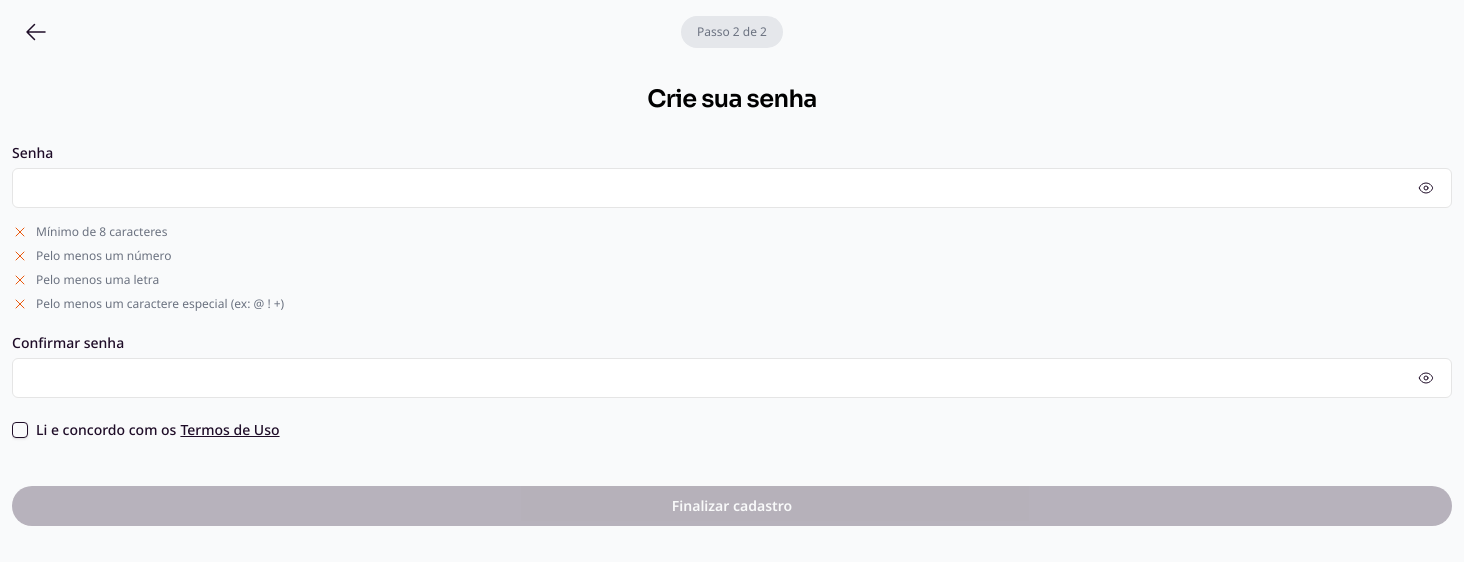
Test case: RegisterMember - Tratamento de Erros › deve exibir erro quando a API retornar erro 400
Type "SenhaForte123!" into the password field labelled "Senha".
click(732, 188); type("SenhaForte123!")  # box [12,168,1452,208]
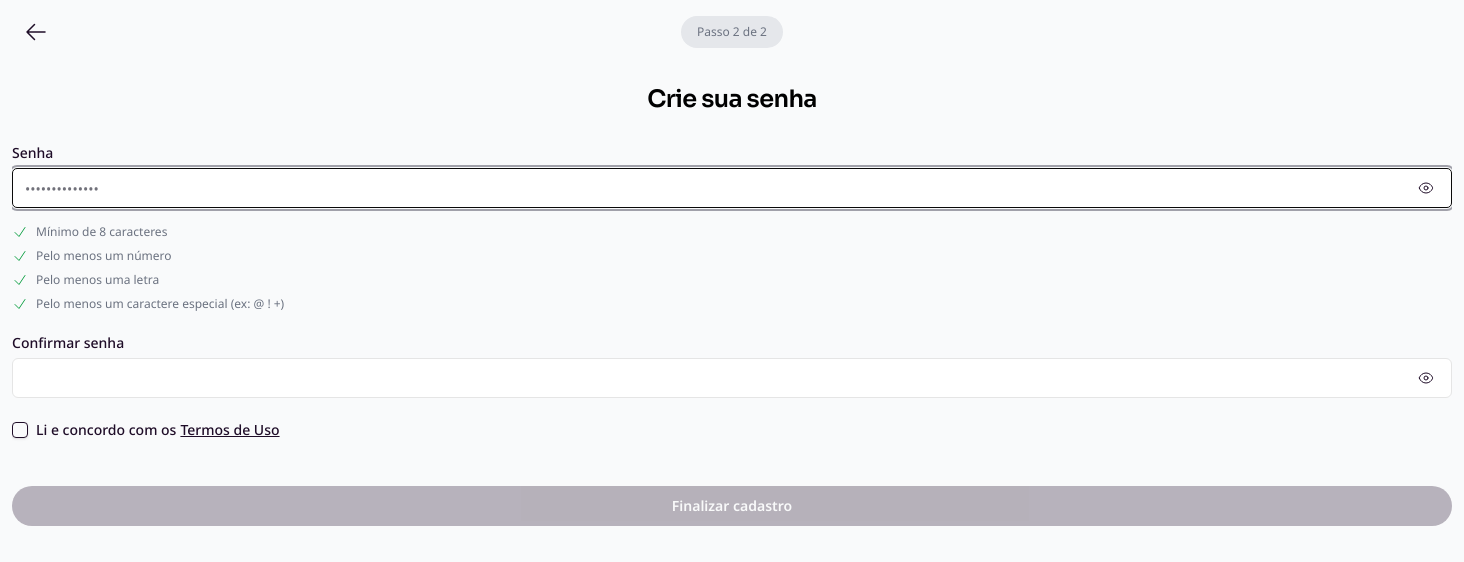
Type "SenhaForte123!" into the password field labelled "Confirmar senha".
click(732, 378); type("SenhaForte123!")  # box [12,358,1452,398]
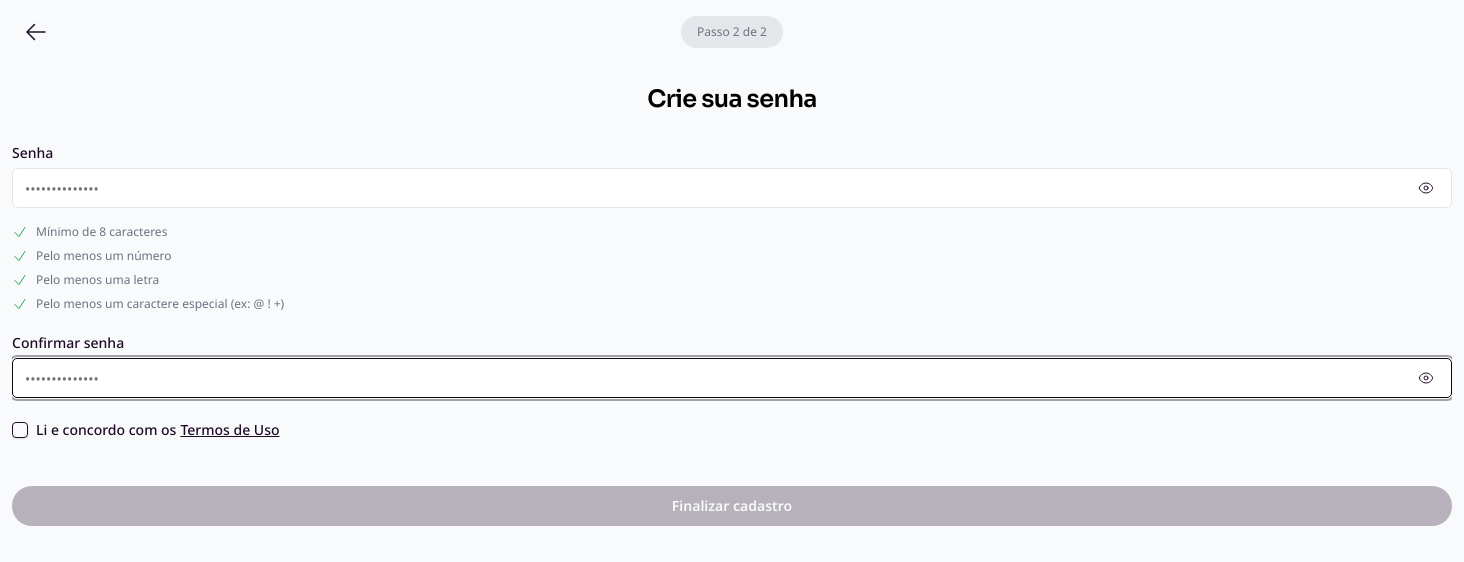
Click the checkbox.
click(20, 430)  # box [12,422,28,438]
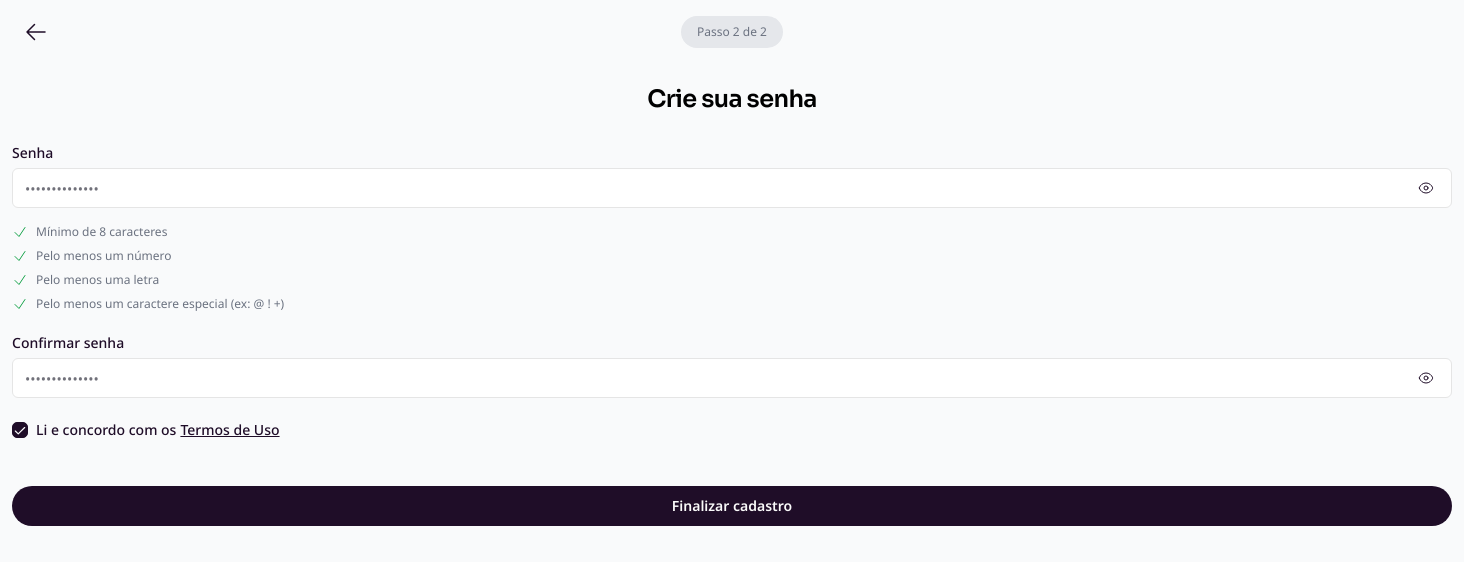
Click the button "Finalizar cadastro".
click(732, 506)  # box [12,486,1452,526]
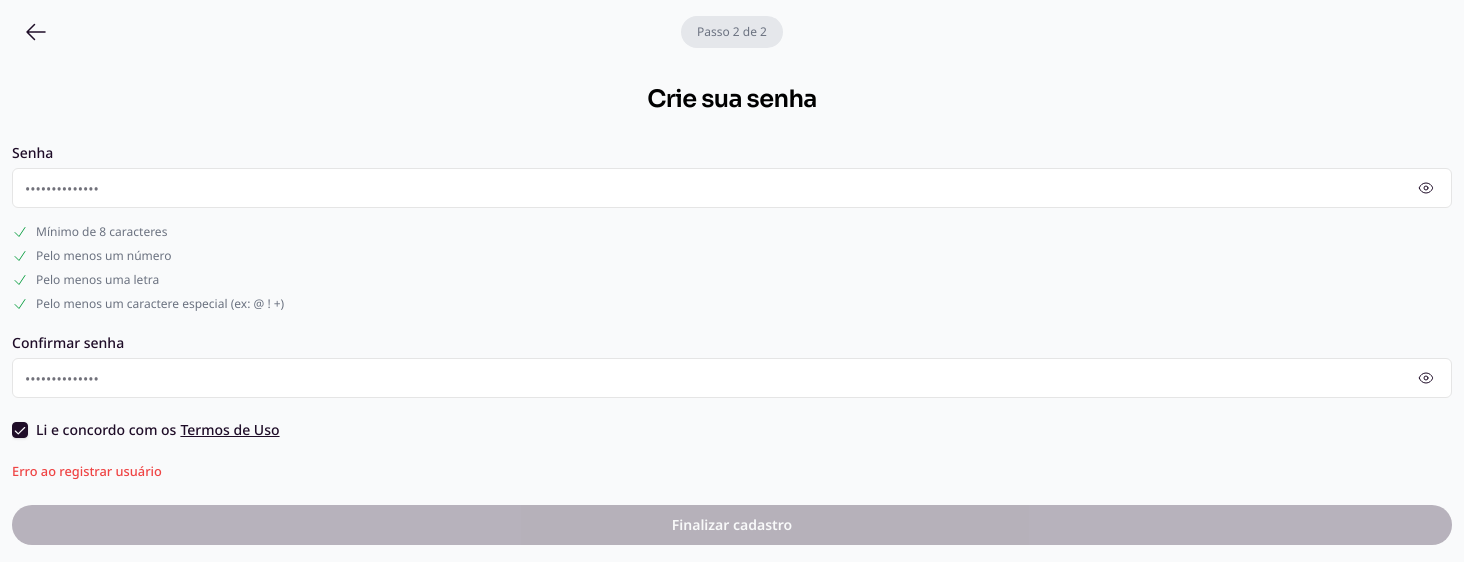
Expected: the text "Erro ao registrar usuário" is shown, [12,462,162,480]
